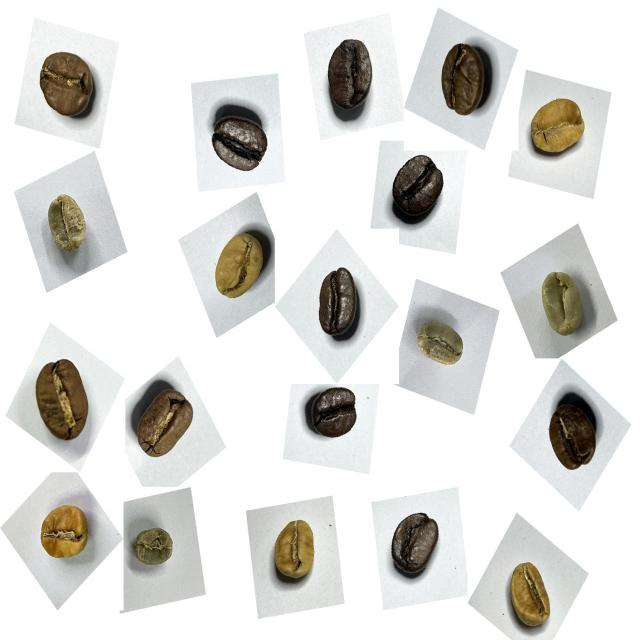dark: (316, 26, 388, 126), (201, 93, 277, 185), (380, 148, 454, 234), (306, 256, 374, 349), (378, 504, 448, 593), (299, 384, 367, 454)
green: (526, 261, 595, 350), (37, 185, 99, 267), (410, 310, 476, 382), (125, 518, 183, 579)
light: (202, 216, 273, 310), (525, 87, 599, 172), (262, 512, 328, 599), (501, 549, 565, 637), (30, 494, 100, 574)
medium: (22, 351, 104, 457), (29, 41, 107, 131), (127, 381, 203, 472), (534, 392, 607, 486), (429, 35, 498, 128)
